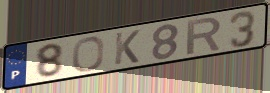3: (228, 9, 257, 50)
8: (33, 41, 66, 78), (150, 22, 180, 62)
K: (112, 28, 142, 67)
O: (71, 35, 106, 73)
R: (185, 15, 224, 57)
